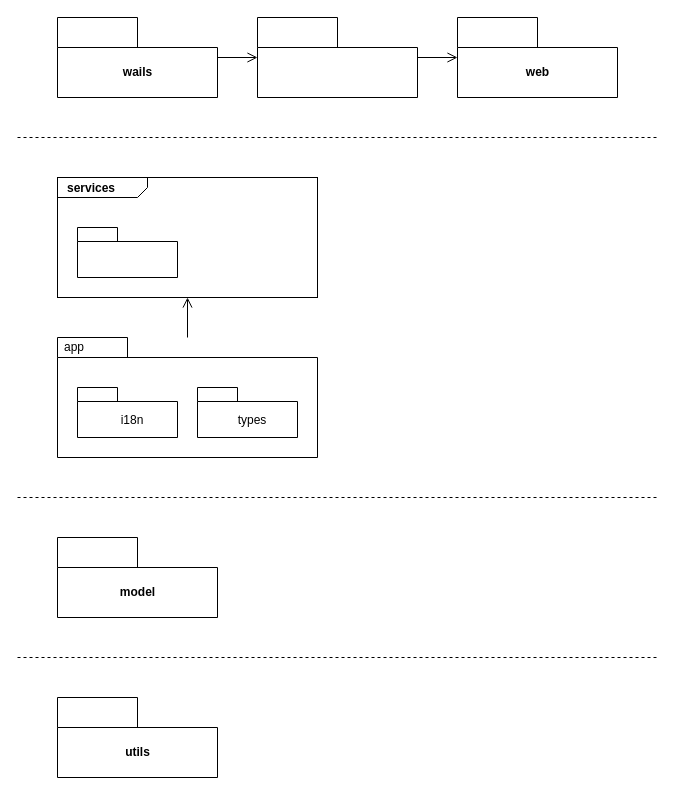
Image size: 676x795. Some labels were removed from this diagram. The centre of each missing label's shape, as x and y in pixels:
local: the point at 127,252
tray: the point at 337,57
